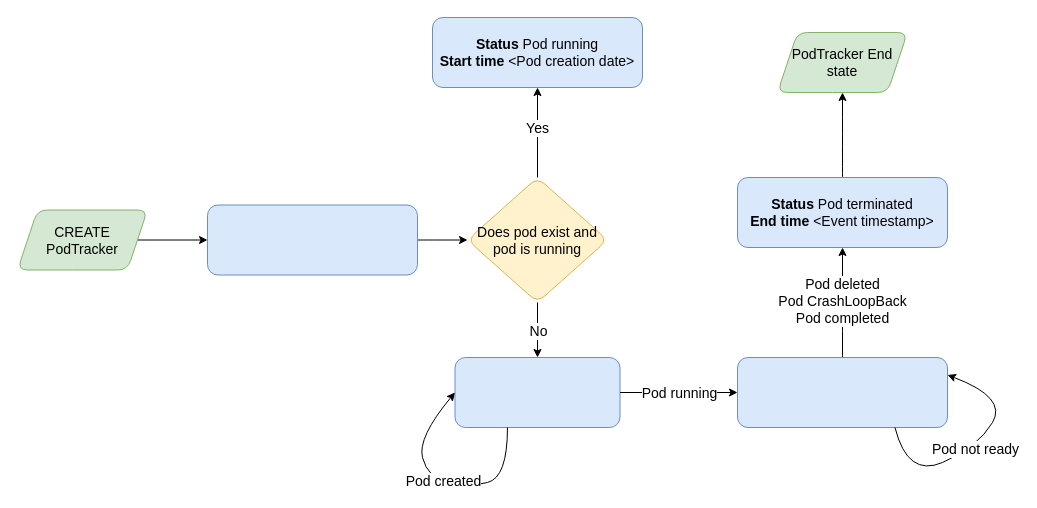
This 1037x508 diagram has some shape labels left out. Each missing label, with the centre of its shape:
Status Pod running Start time <Event timestamp>: point (842, 392)
Status Waiting for pod: point (537, 392)
Status Waiting for pod Start time undefined End time undefined: point (312, 239)
